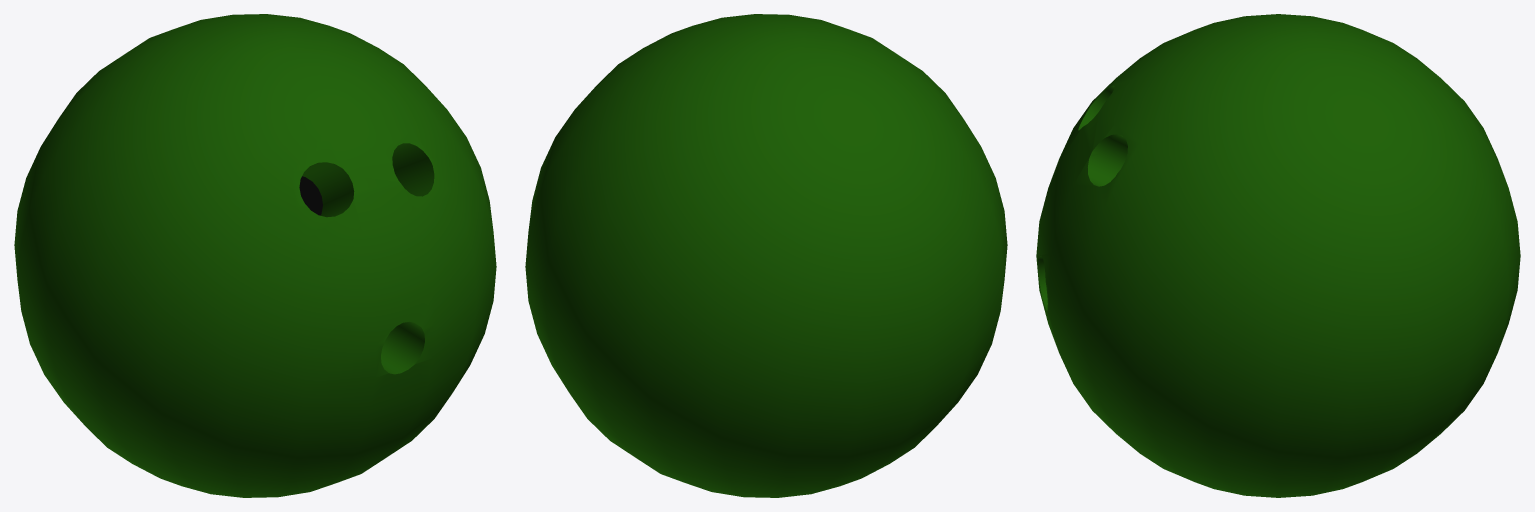
The model's file is sm_BowlingGreen.fbx.
3 renders of one model, left to right at view 1: azimuth 30°, elevation 25°; view 2: azimuth 150°, elevation 25°; view 3: azimuth 270°, elevation 25°, orthographic.
Parts seen in each view (by area): view 1: Green1; view 2: Green1; view 3: Green1.
Part boxes in pixels (left/top/right/bottom): Green1: left=14, top=14, right=496, bottom=497; Green1: left=525, top=14, right=1007, bottom=497; Green1: left=1036, top=14, right=1520, bottom=497.
Bounding box in the file's own units: 200 × 200 × 200.
